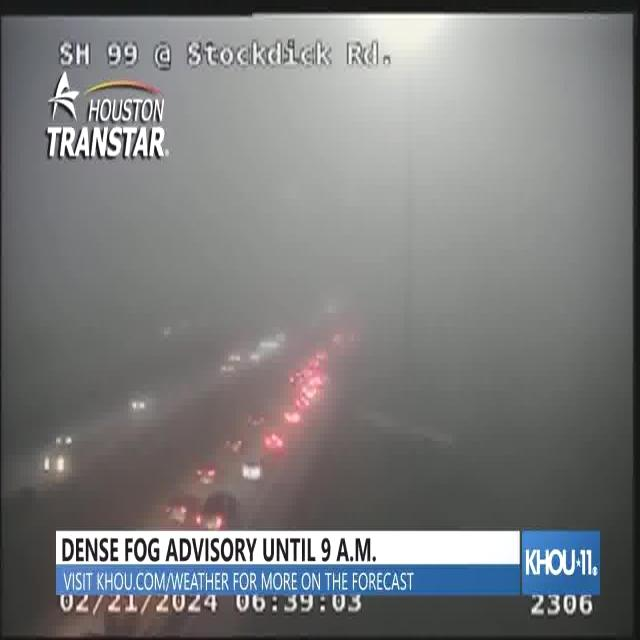Car: (42, 449, 68, 476), (262, 432, 284, 453), (196, 466, 216, 484), (242, 462, 262, 480), (224, 439, 242, 455), (284, 410, 301, 424), (220, 363, 233, 375), (130, 399, 140, 412)
